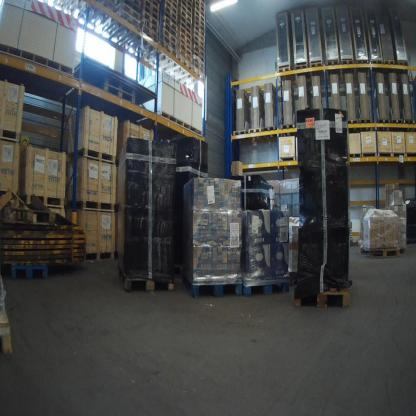pallet: (1, 45, 75, 98), (292, 275, 352, 314), (184, 272, 246, 301), (1, 286, 22, 357), (117, 270, 179, 294), (115, 25, 161, 57), (241, 275, 289, 303), (95, 14, 140, 43), (157, 115, 205, 139), (74, 2, 109, 30), (22, 191, 68, 211), (69, 145, 113, 165), (10, 260, 52, 280), (141, 42, 176, 66), (158, 58, 194, 81), (103, 73, 137, 96), (105, 85, 136, 109), (70, 197, 114, 213), (366, 244, 398, 263), (1, 124, 24, 149), (275, 62, 294, 89), (341, 53, 357, 85), (114, 2, 140, 21), (86, 250, 113, 268), (309, 54, 323, 88), (355, 56, 371, 83), (327, 56, 341, 85), (295, 62, 309, 87), (258, 122, 277, 140), (346, 113, 360, 136), (396, 60, 410, 83), (382, 56, 396, 79), (189, 72, 206, 89), (360, 116, 373, 138), (377, 115, 391, 135), (371, 55, 382, 80), (389, 114, 402, 135), (280, 122, 298, 137), (396, 242, 408, 259), (357, 237, 367, 257), (404, 113, 413, 135), (248, 125, 262, 137), (234, 127, 246, 136)
small_load_carrier: (349, 152, 363, 163)
